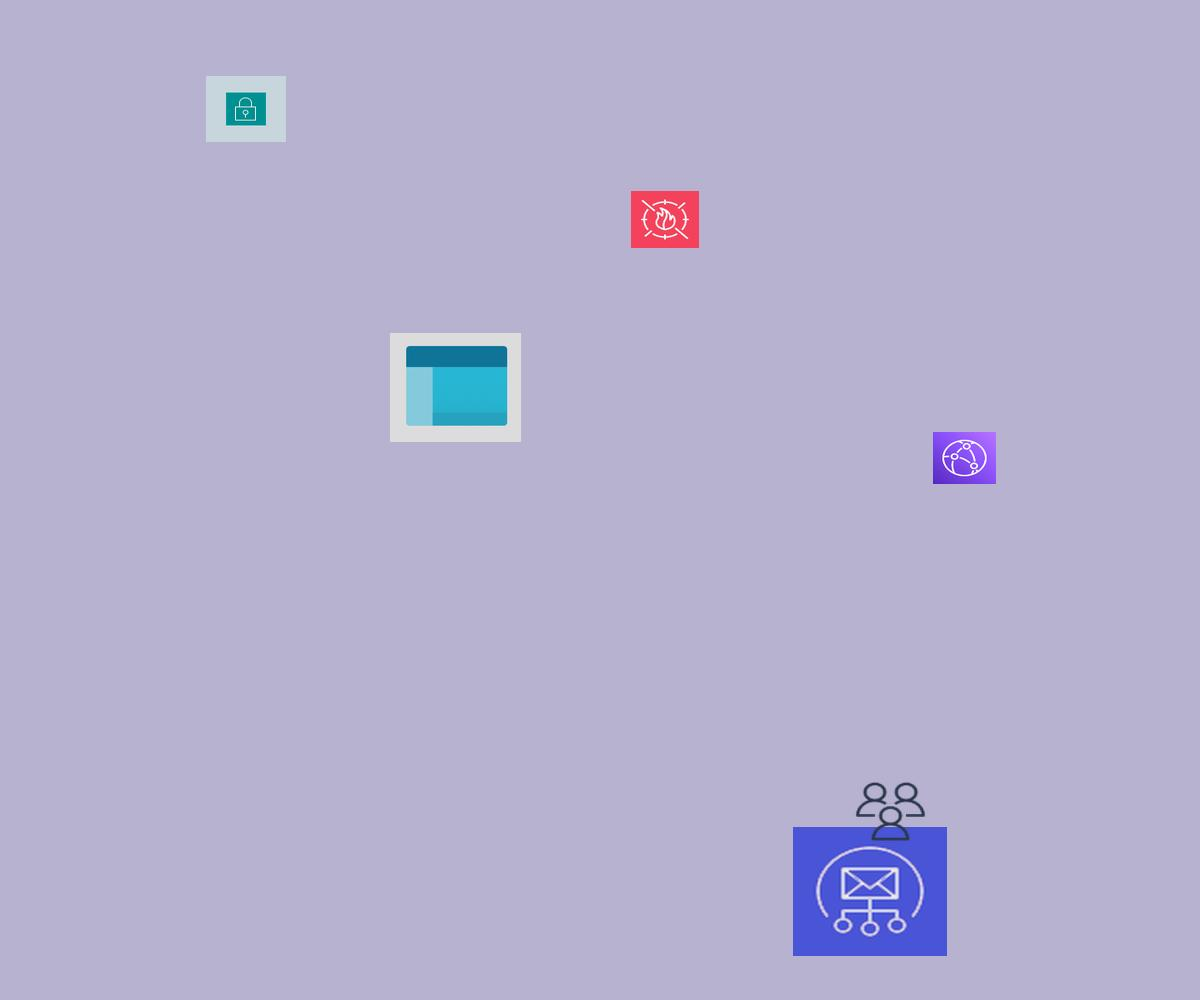AWS-CloudFront: (933, 432, 996, 484)
AWS-Private-subnet: (206, 76, 286, 142)
AWS-Res_Users: (853, 780, 928, 843)
AWS-Simple-Email-Service: (793, 827, 947, 956)
AWS-WAF: (631, 191, 699, 248)
Azure_management-portal: (390, 333, 521, 442)
